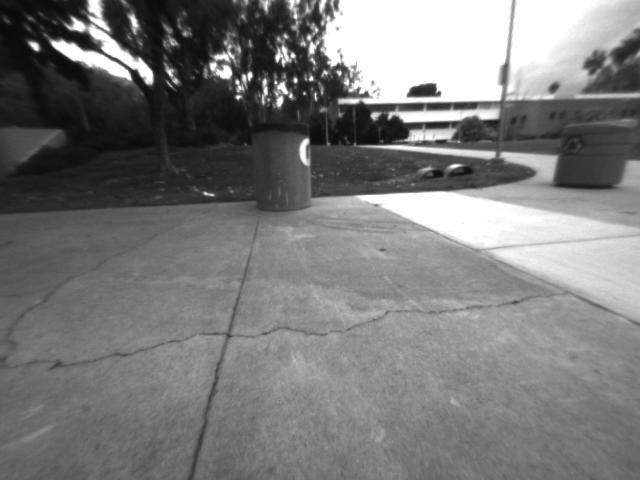trashcan: (250, 119, 321, 214), (556, 121, 631, 201)
